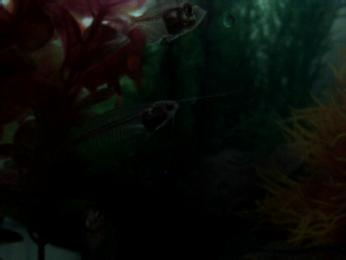X-ray fish: (125, 1, 208, 44)
glassfish: (23, 98, 185, 174)
